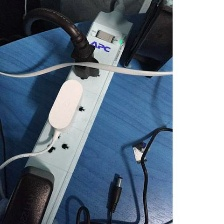three_eye_plug: (0, 7, 137, 223)
